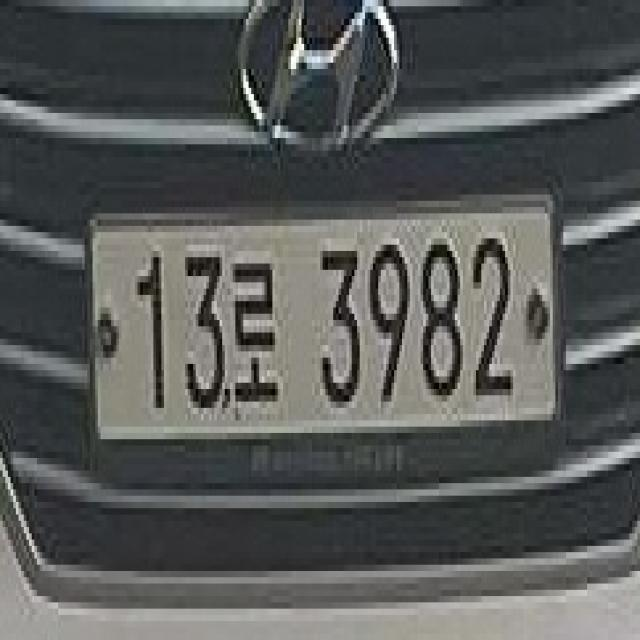1: (136, 238, 170, 414)
2: (471, 230, 518, 416)
3: (182, 240, 226, 417), (319, 238, 361, 411)
8: (421, 236, 464, 407)
9: (370, 231, 416, 414)
license_plate: (79, 193, 562, 436)
lo: (234, 232, 288, 422)
